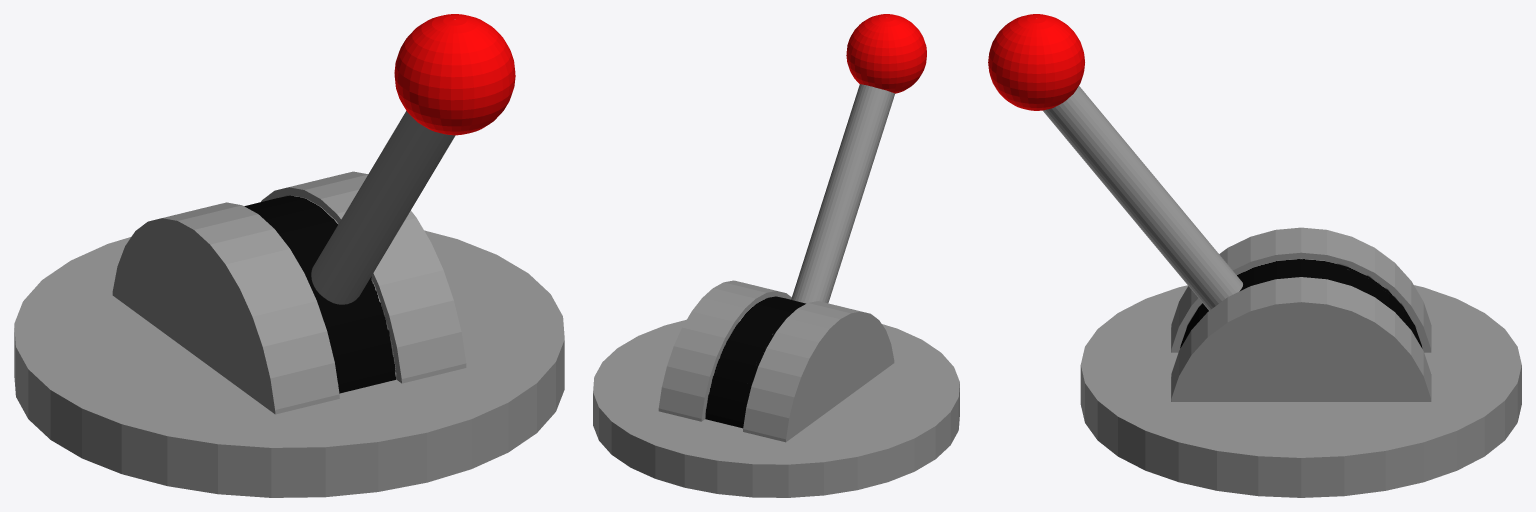
Rendered from switch.obj.
3 renders of one model, left to right at view 1: azimuth 30°, elevation 25°; view 2: azimuth 150°, elevation 25°; view 3: azimuth 270°, elevation 25°, orthographic. The views are drawn at different scales.
Visible parts, largest first — view 1: 円柱.001; view 2: 円柱.001; view 3: 円柱.001.
Part boxes in pixels (x1,y1,x2,y2): 円柱.001: [14, 14, 564, 497]; 円柱.001: [593, 14, 959, 497]; 円柱.001: [988, 14, 1521, 497].
Bounding box in the file's own units: 1 × 0.9662 × 1.21.
